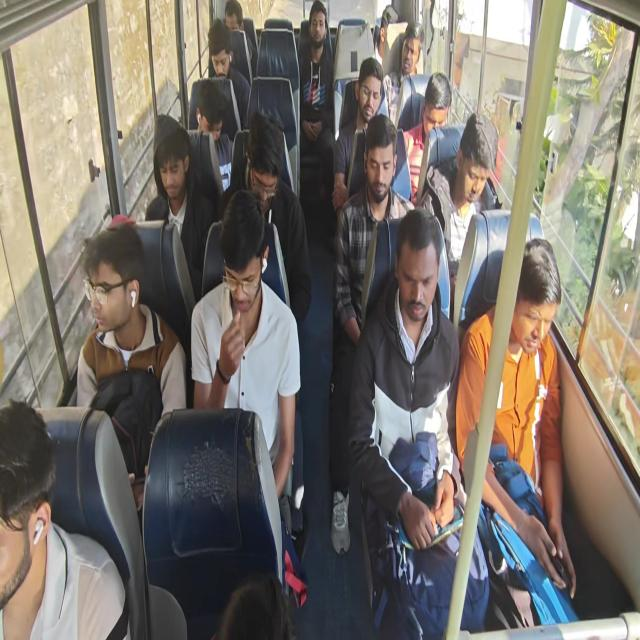person: (0, 403, 53, 623), (509, 241, 556, 368), (84, 231, 144, 325), (398, 222, 440, 324), (222, 224, 266, 313), (244, 115, 285, 209), (154, 116, 186, 198), (364, 130, 397, 208), (456, 120, 488, 198), (189, 96, 224, 146), (206, 25, 236, 79), (355, 58, 380, 119), (424, 78, 451, 134), (307, 2, 331, 52), (381, 2, 401, 54), (400, 28, 420, 78), (223, 0, 248, 37)
